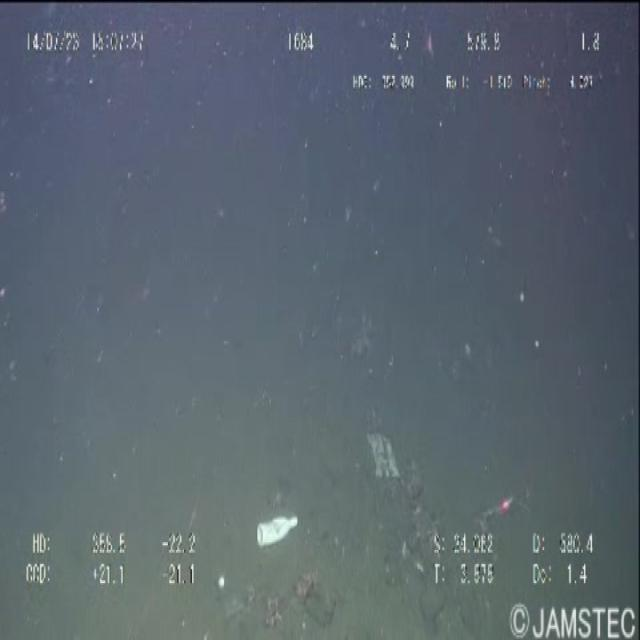Glass: (249, 502, 304, 557)
Litter: (357, 418, 408, 497)
